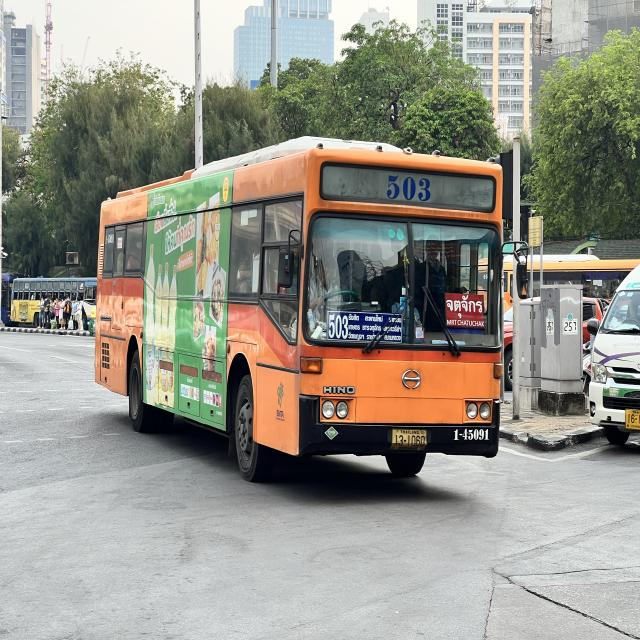BMTA-bus: (91, 126, 508, 498)
Bus-Line-Number: (380, 168, 439, 208)
Destination-Sign-Extra-Bus: (444, 292, 484, 330)
